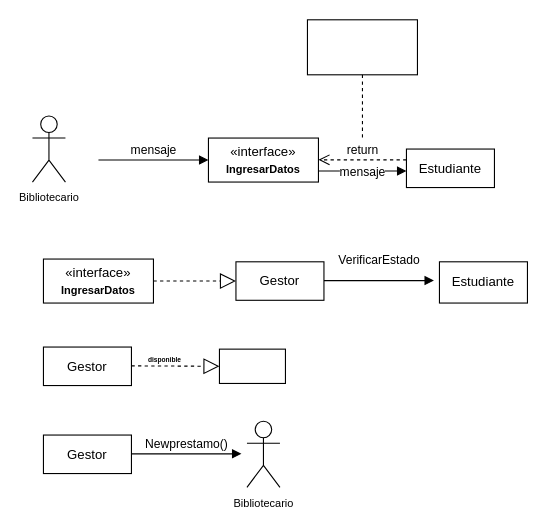
The diagram is 547 pixels wide and 529 high, and some of its shapes have lost their labels. Here are the shapes that lost their labels. From the top down, the centre of each, then its label:
the point at 361,80: DatosEstudiante IdEstudiante IdLibre
the point at 251,365: Libro
